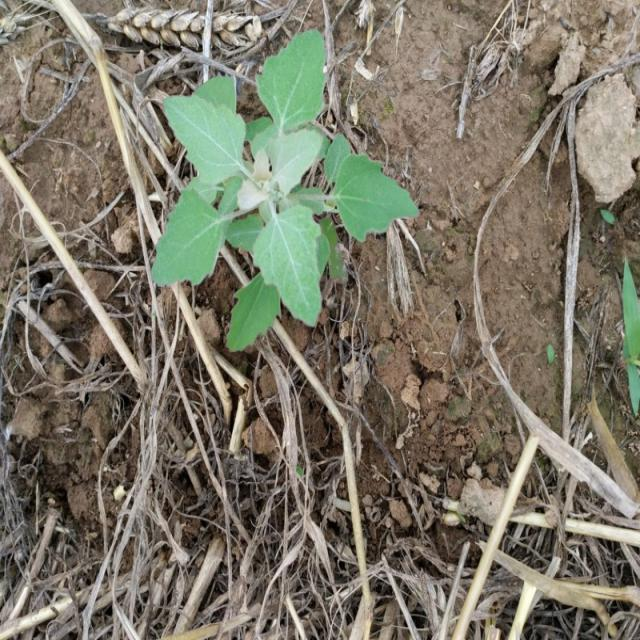goosefoots: (147, 20, 409, 346)
